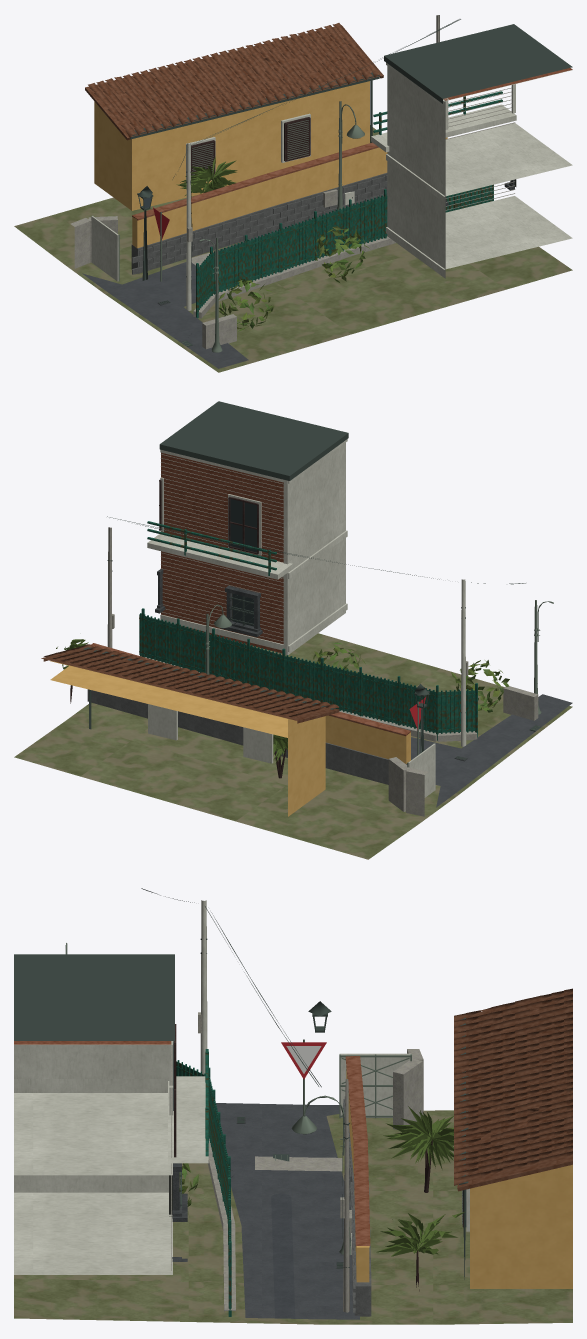
3 views of the same model, one above another, from view 1: azimuth 30°, elevation 25°; view 2: azimuth 150°, elevation 25°; view 3: azimuth 270°, elevation 25° (orthographic). The views are drawn at different scales.
Size of the model in its own units: 16 by 9.65 by 16.
Materials: 25 (17 with a texture image).
